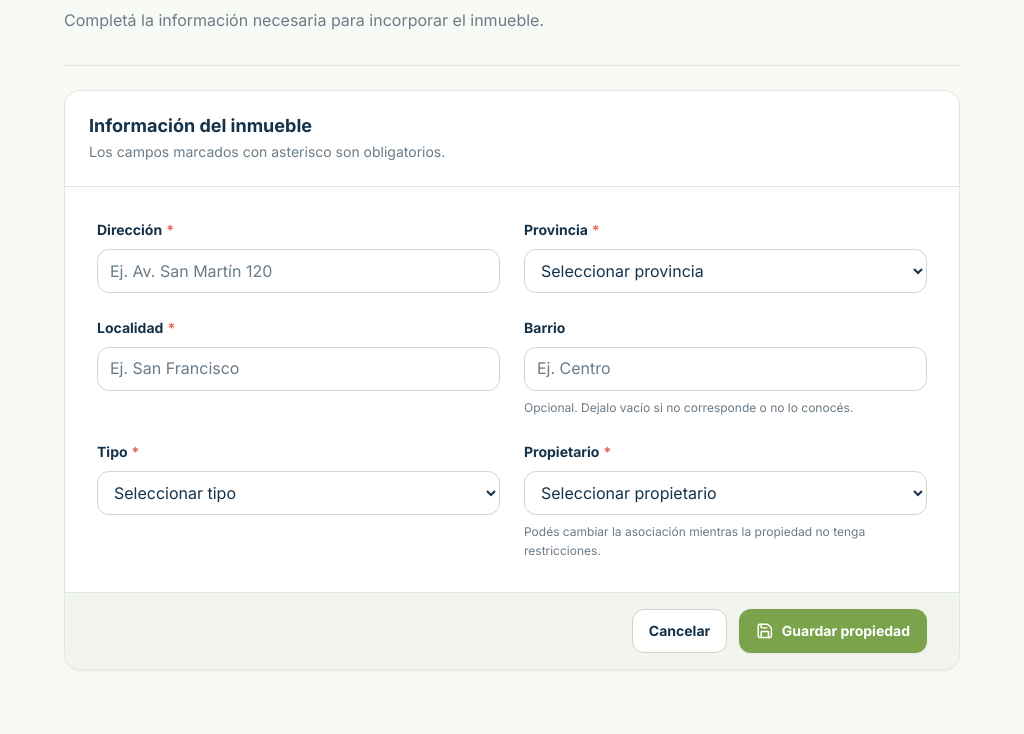
formulario de propiedad › muestra validaciones sin enviar datos incompletos
The width and height of the screenshot is (1024, 734).
(page scrolled)
Expected: the dropdown labelled "Propietario*" is shown, [524,471,927,515]
Click the button "Guardar propiedad" at [833, 631], box [739,609,927,653]
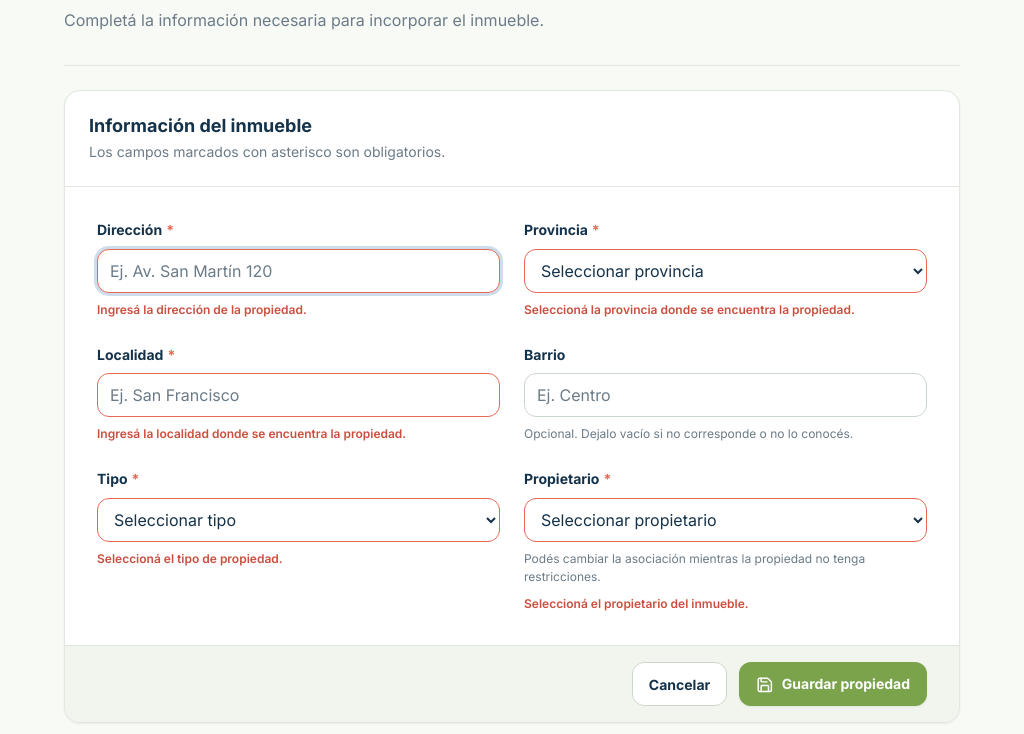
Expected: the text "Ingresá la dirección de la propiedad." is shown, [97,302,307,317]
